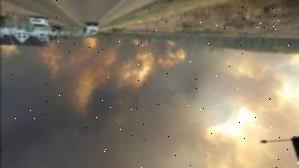fire: (98, 36, 188, 100), (42, 38, 96, 106)
